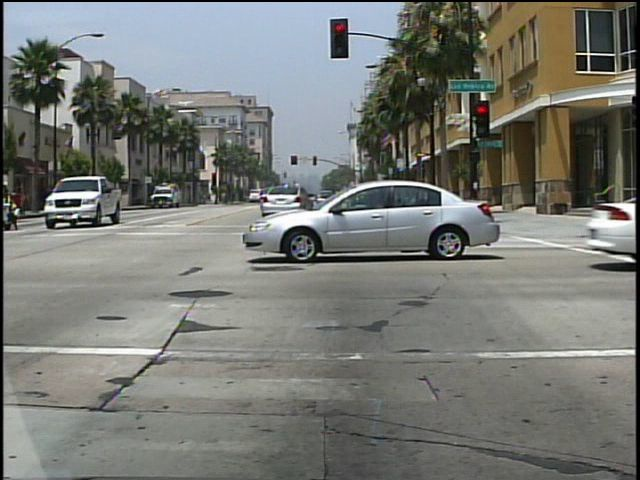person: (1, 178, 24, 232)
